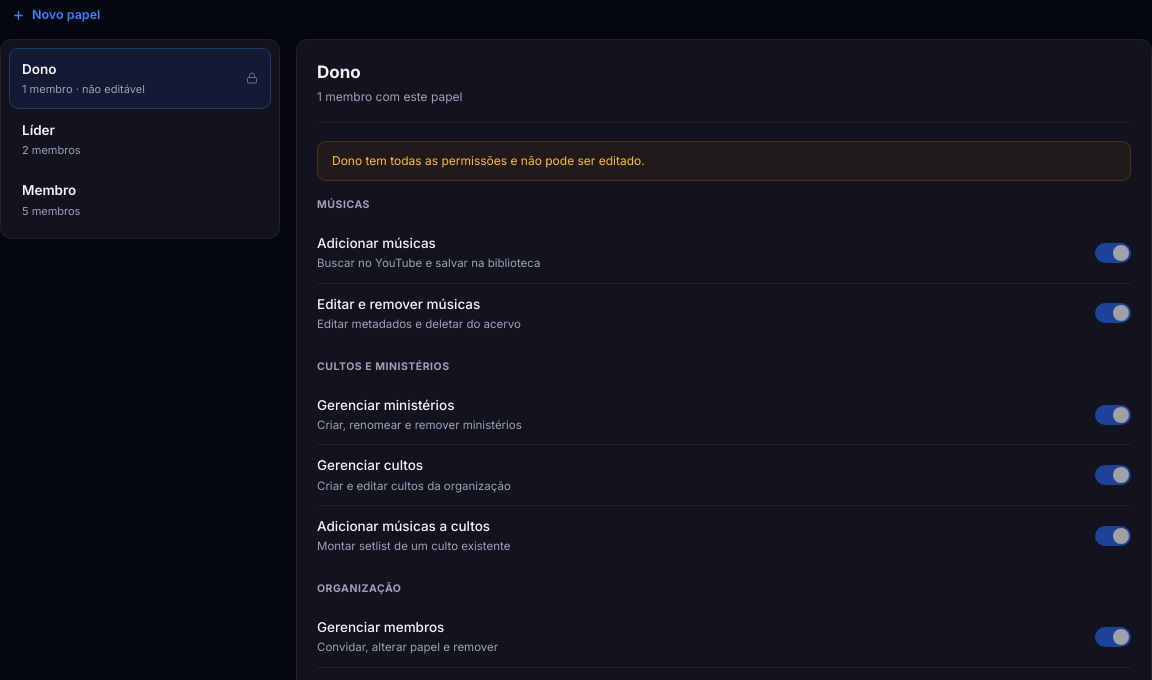
Test: OrgRoles › erro no insert exibe mensagem inline
Click the button "Novo papel".
click(56, 15)  # box [0,0,112,31]
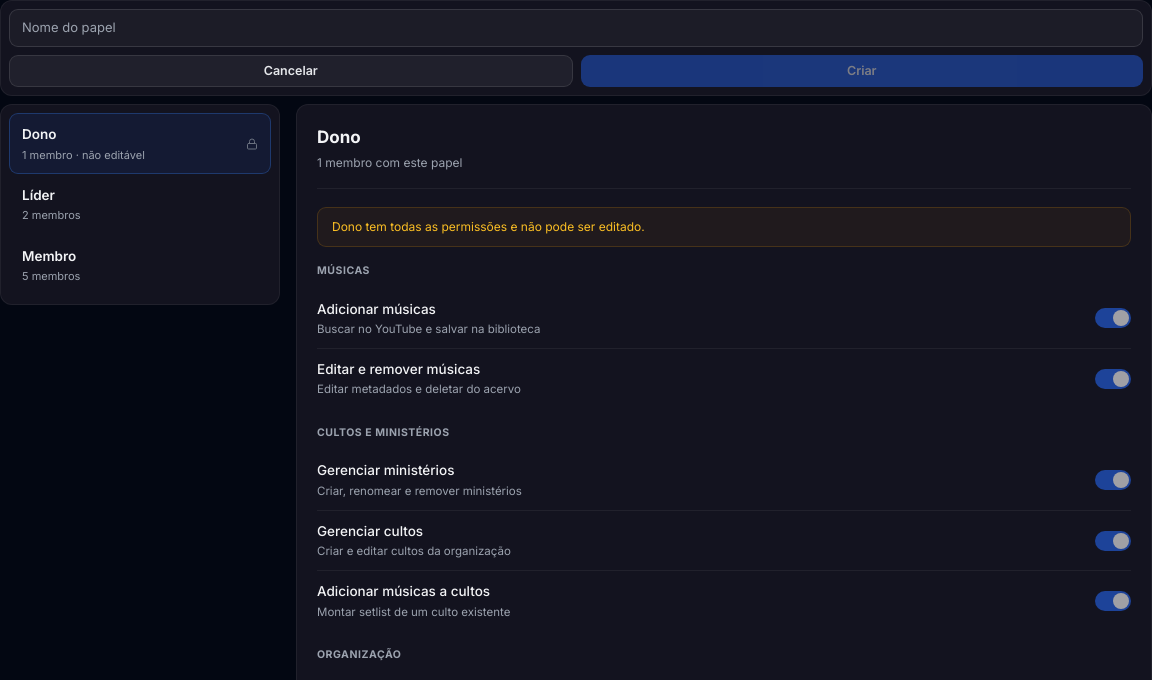
Type "Falho" into the field with placeholder "Nome do papel".
click(576, 28); type("Falho")  # box [9,9,1143,46]
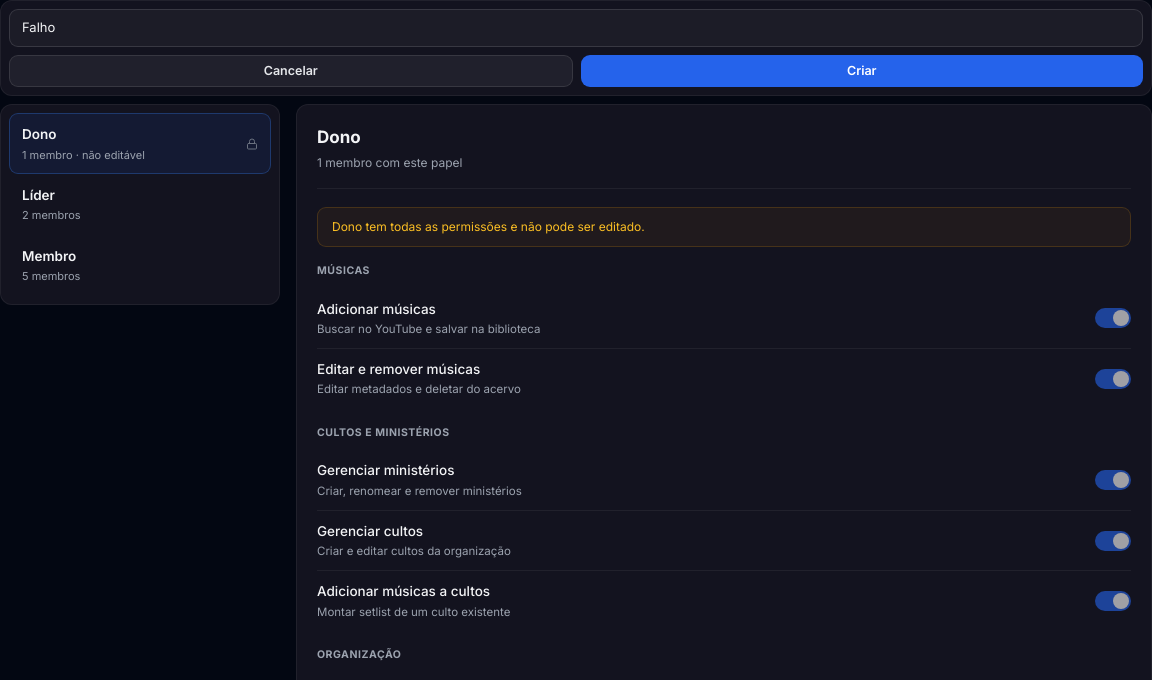
Click the button "Criar".
click(862, 71)  # box [580,54,1143,87]
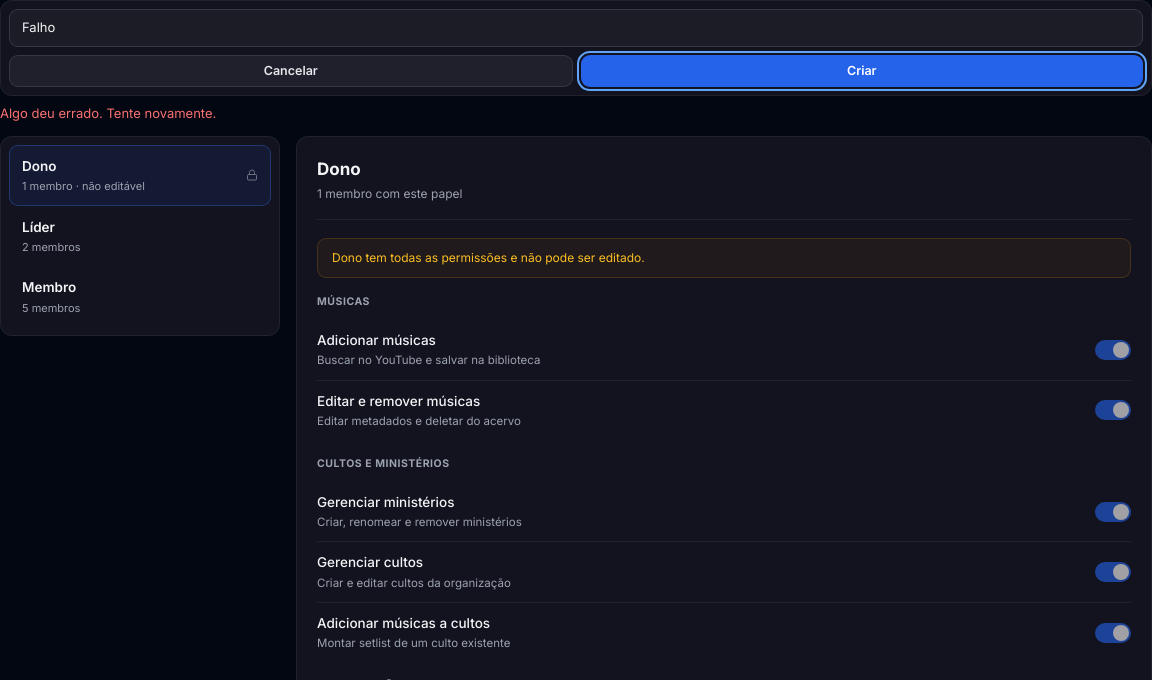
Expected: the text "Algo deu errado. Tente novamente." is shown, [0,105,216,121]
